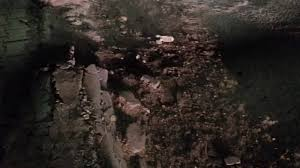pothole: (58, 60, 222, 168)
